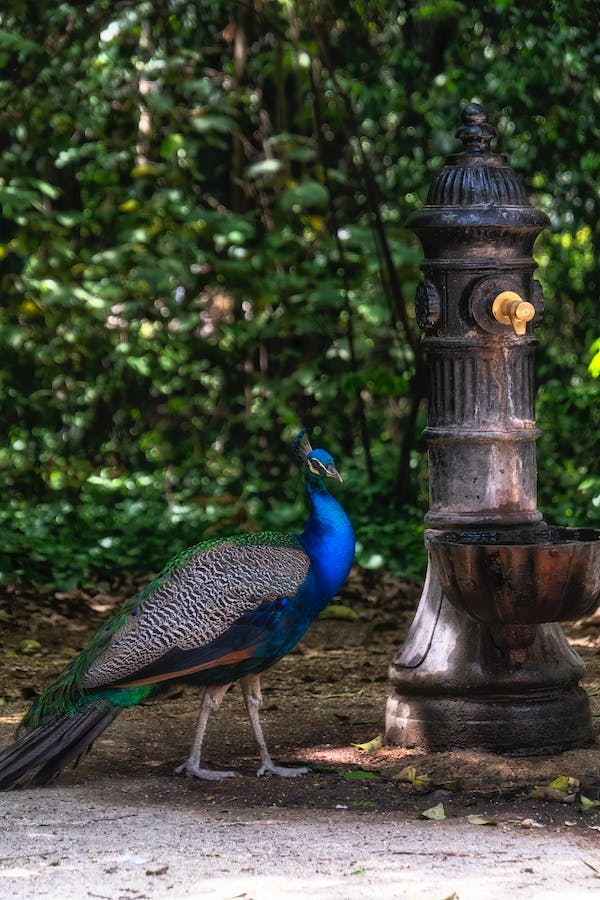Walking: (13, 352, 374, 876)
